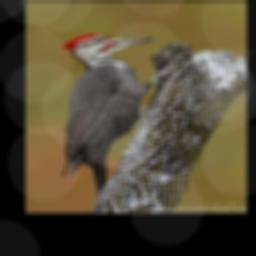Woodpecker: (60, 34, 175, 199)
